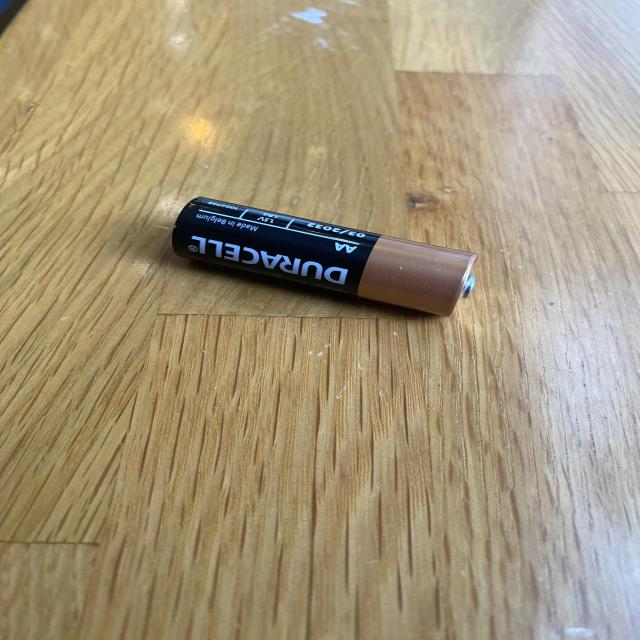AA: (170, 195, 480, 318)
